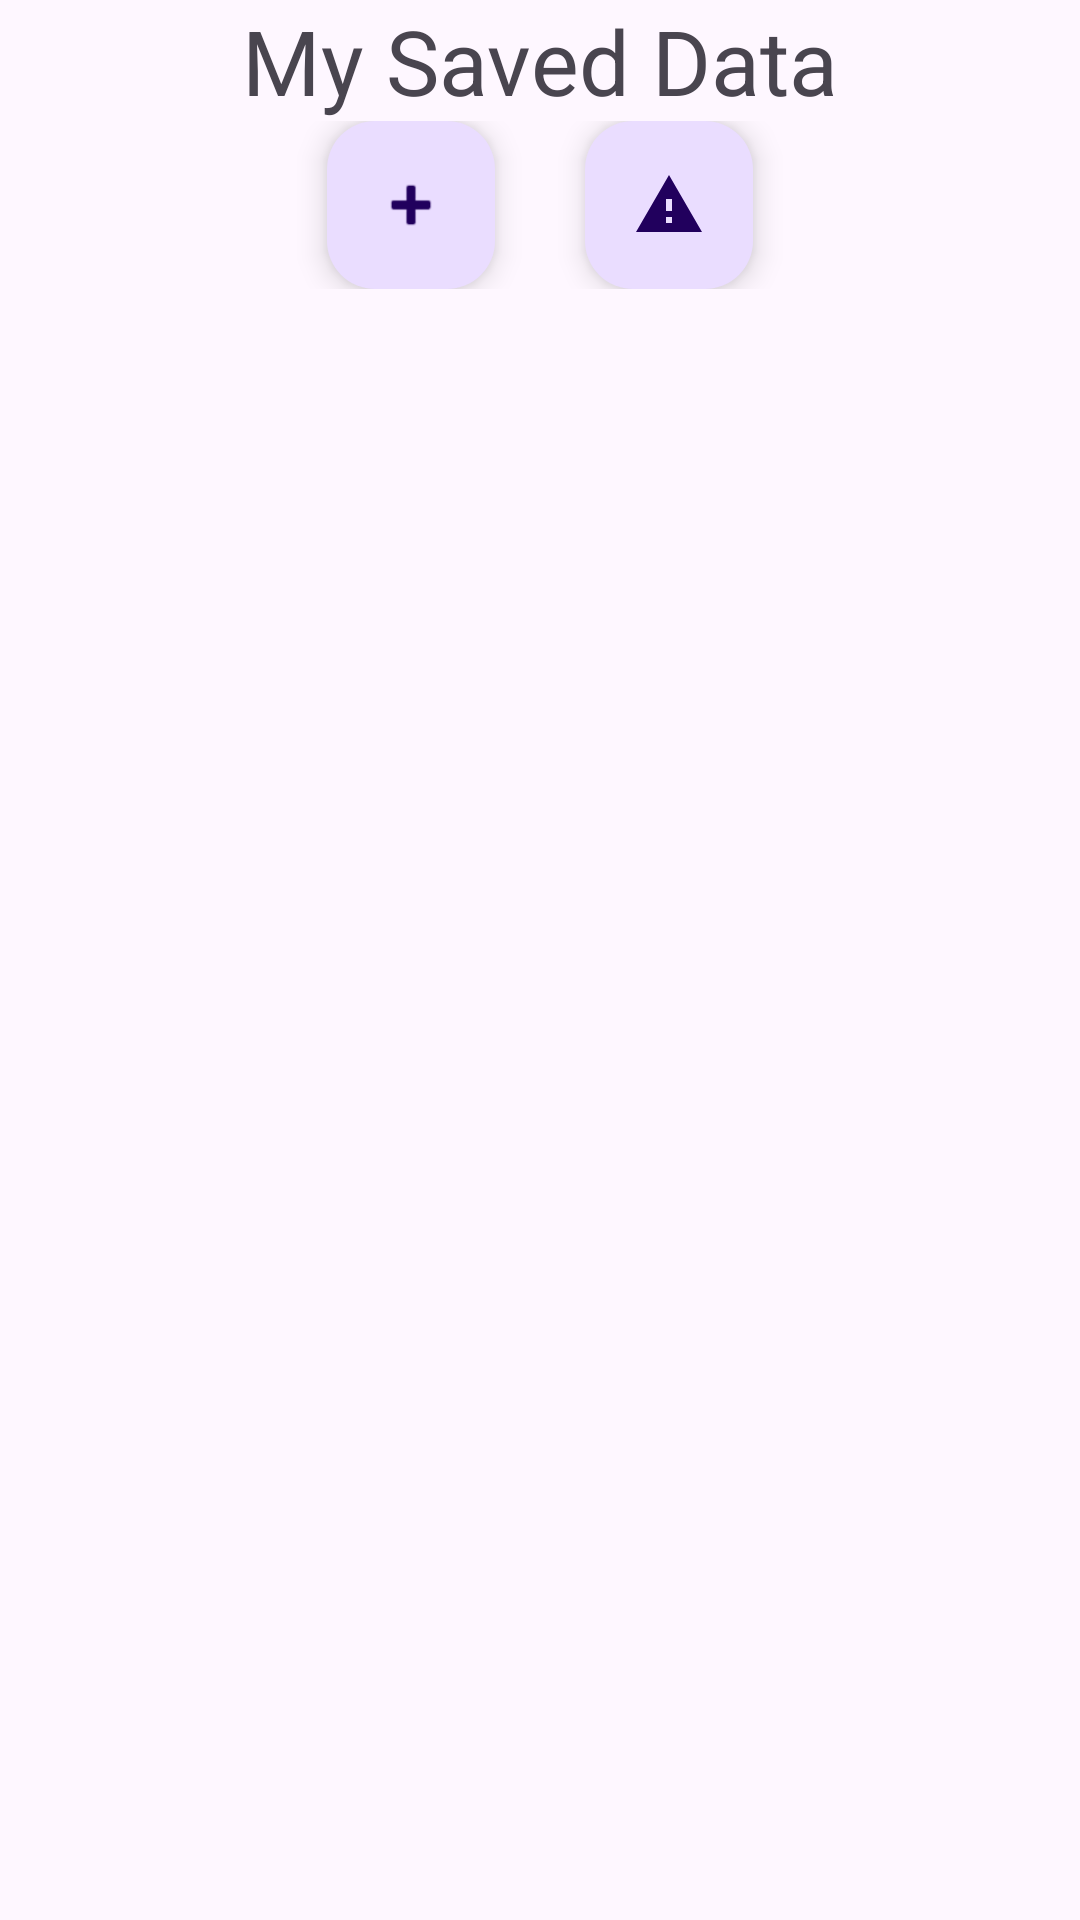

Named icons in this screenshot (1080w x 1920h) and their centers, (x,y):
add: (411,205)
